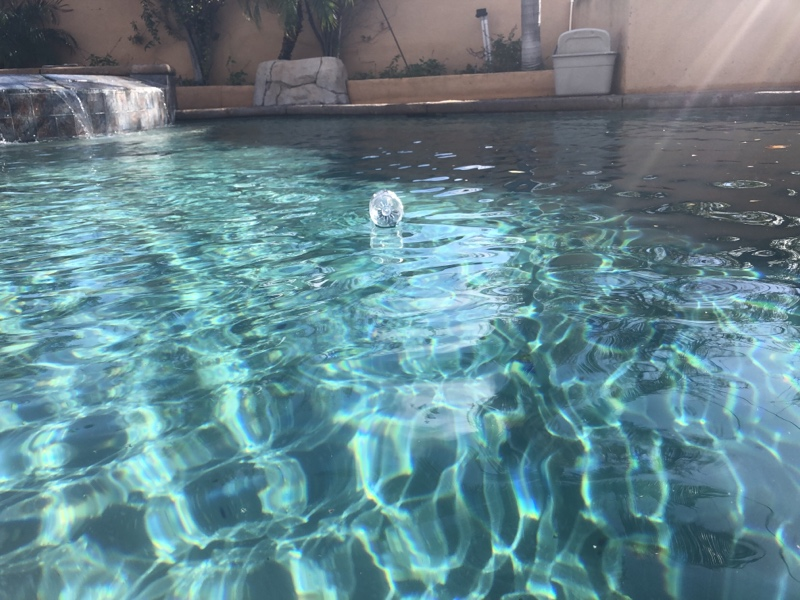Plastic Bottle: (368, 184, 404, 235)
